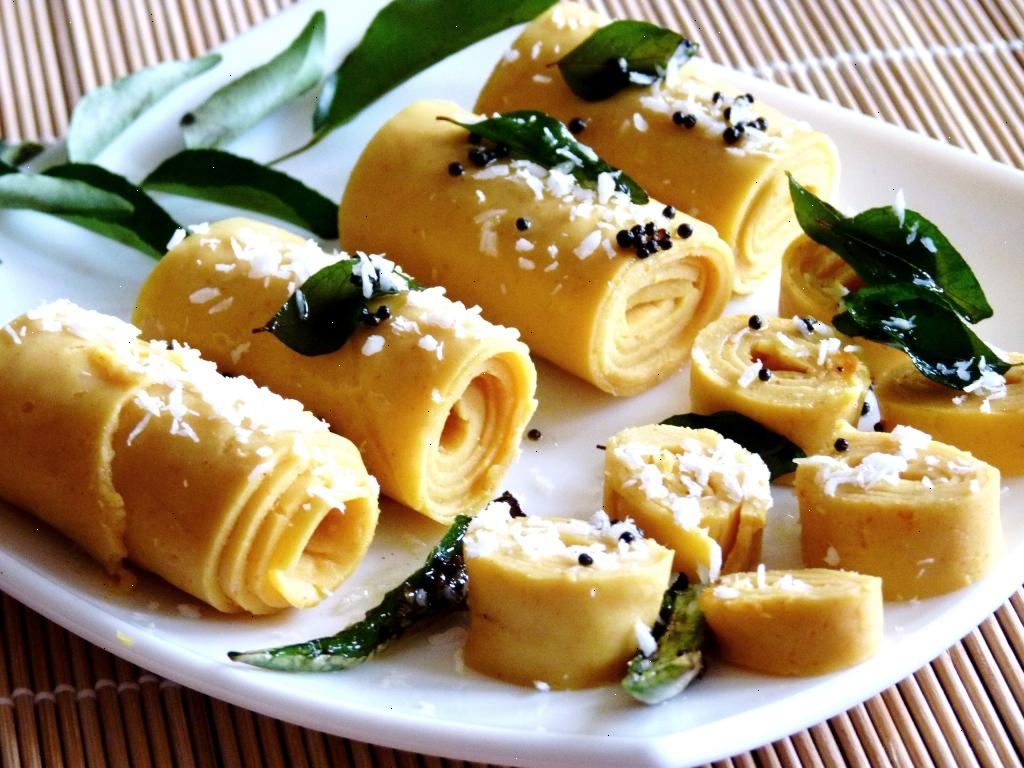khandvi: (18, 34, 1024, 602)
